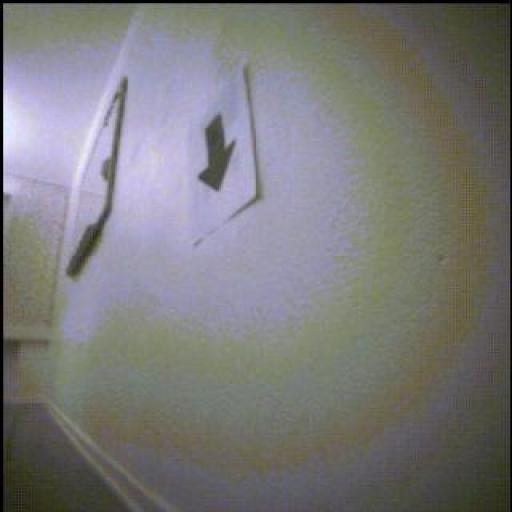Arrow: (200, 117, 237, 192)
